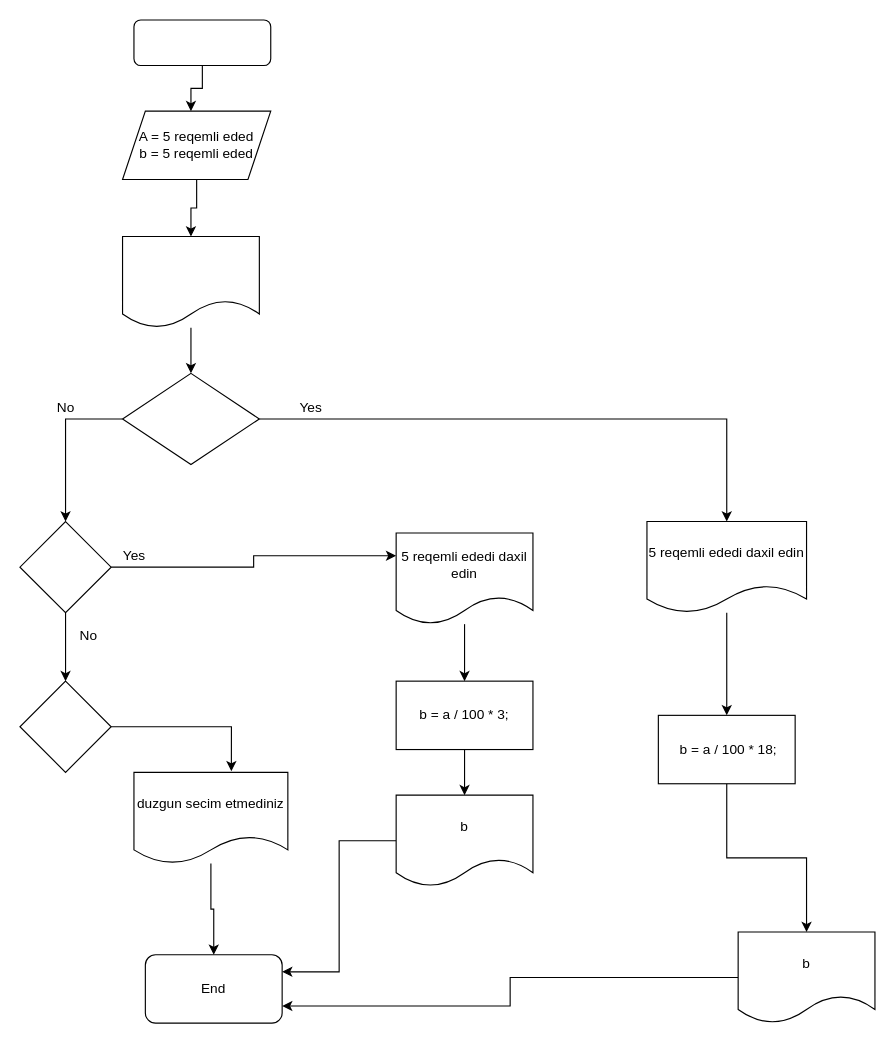
Image size: 895x1043. Some labels were removed from this diagram. Here are the shapes that lost their labels. From the top down, the box of each, then its label:
(133, 19, 271, 66): Start
(121, 235, 259, 328): secim edin 18% yoxsa 3%"
(121, 372, 259, 465): secim == 18
(19, 520, 111, 613): secim == 3
